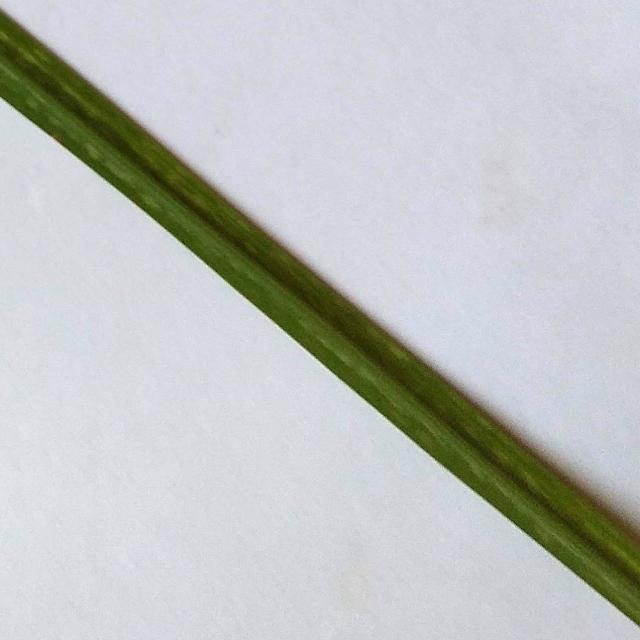Rice_Healthy: (0, 9, 640, 625)
